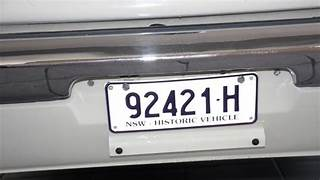number_plate: (107, 83, 247, 123)
